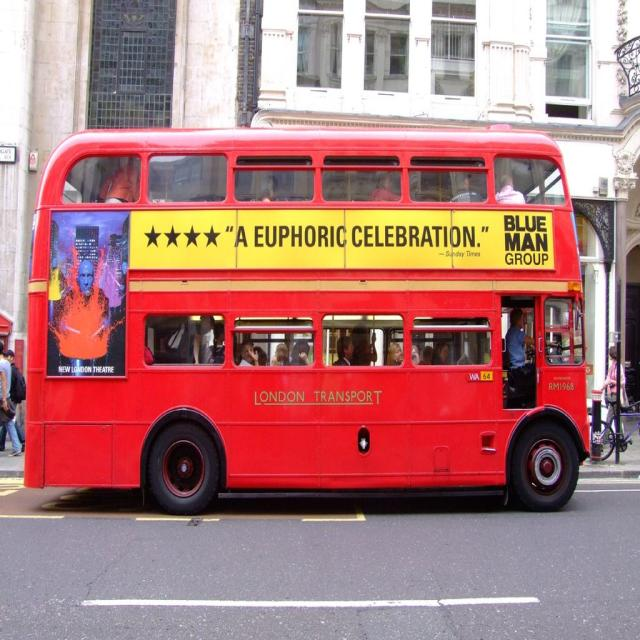Buses: (22, 132, 588, 515)
